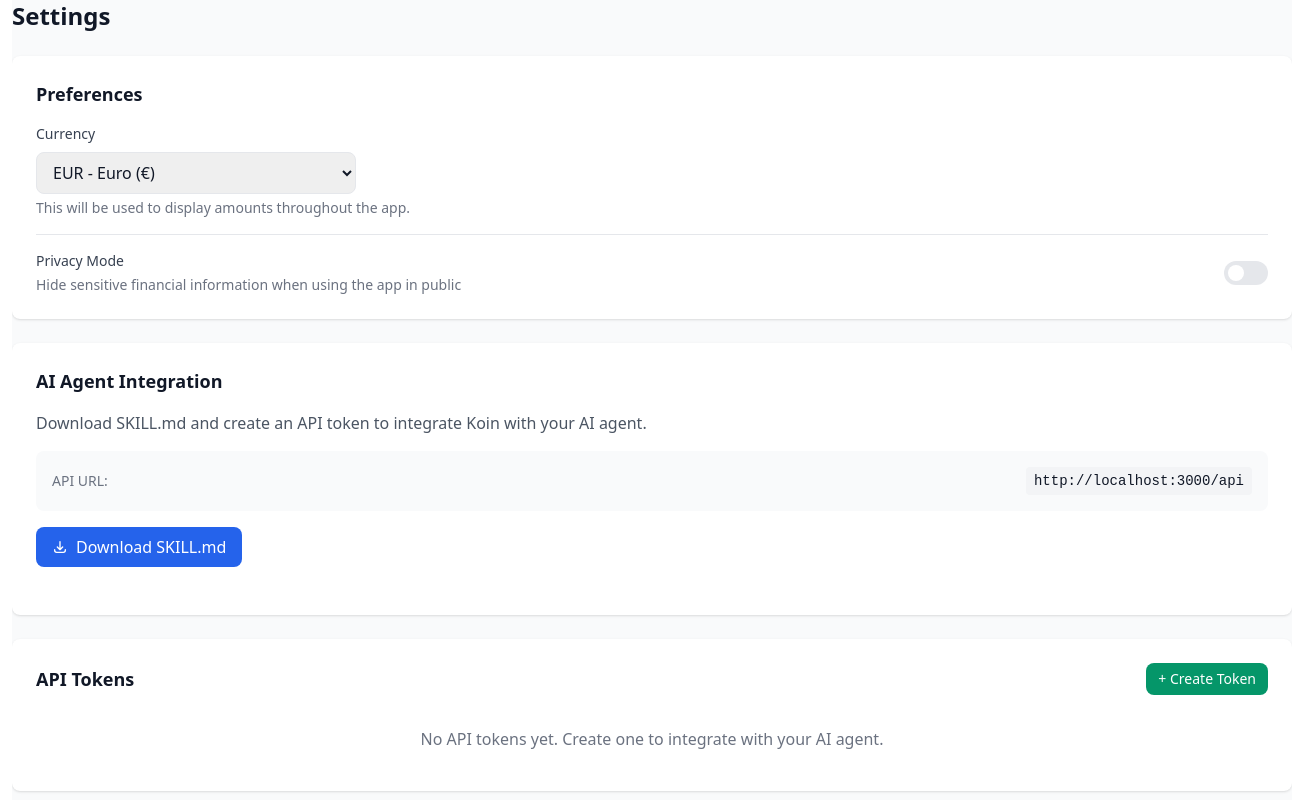
it: SettingsPage › can open create token form
Click the button "+ Create Token": (1207,679) [1146,663,1268,695]
(page scrolled)
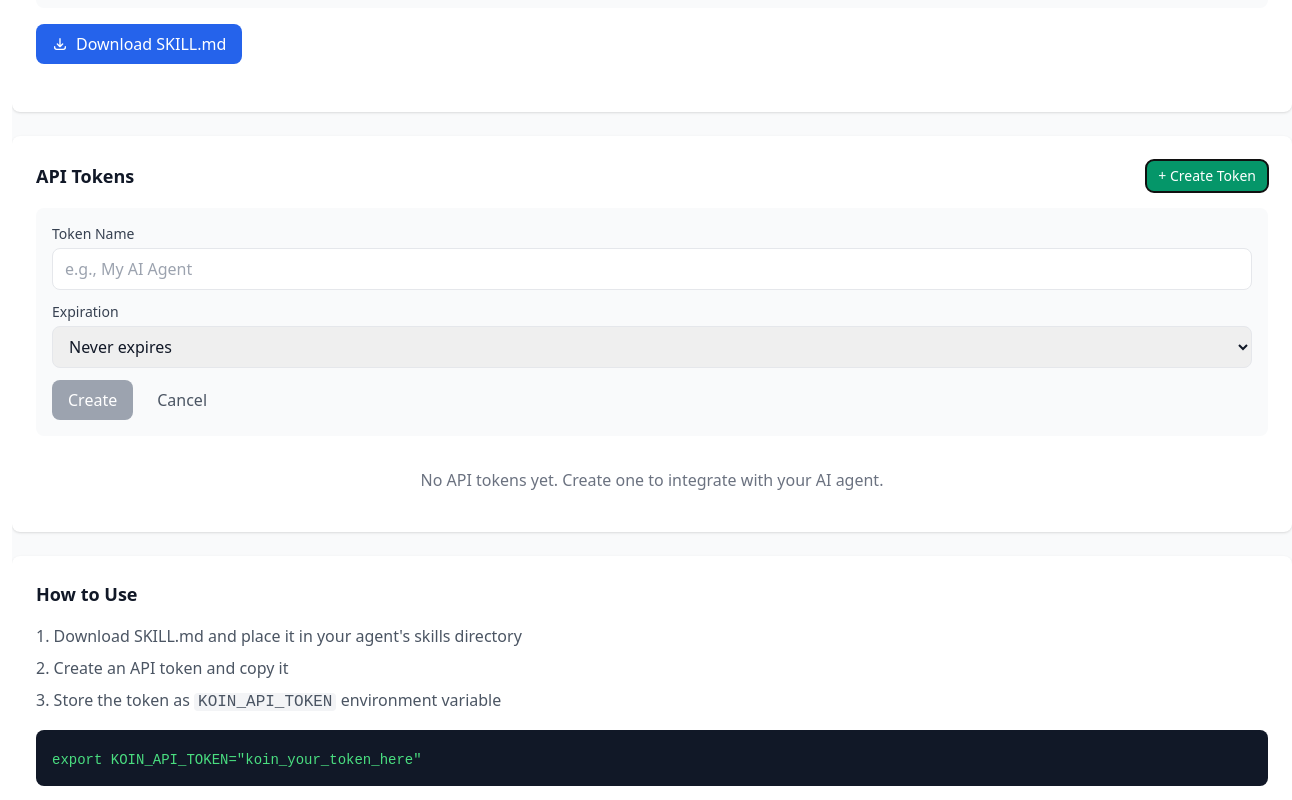
expect the field with placeholder "e.g., My AI Agent" is shown: met, box [52,248,1252,290]
expect the button "Create" is shown: met, box [52,380,133,420]
